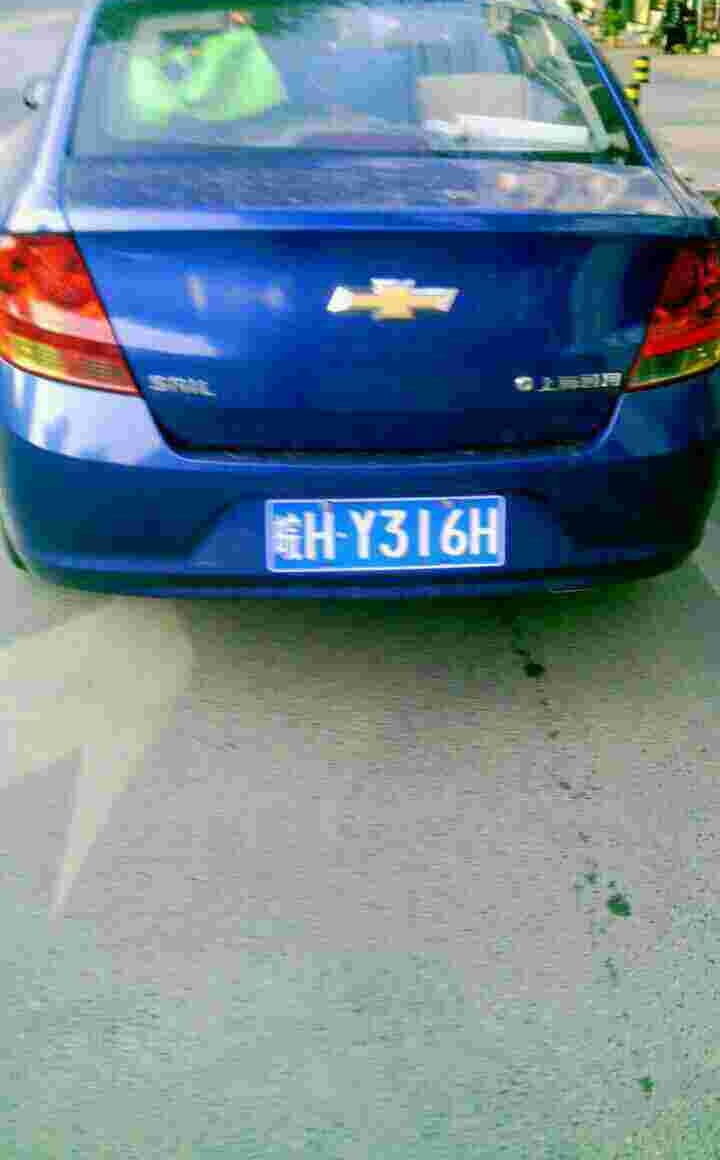license_plate: (250, 492, 502, 584)
